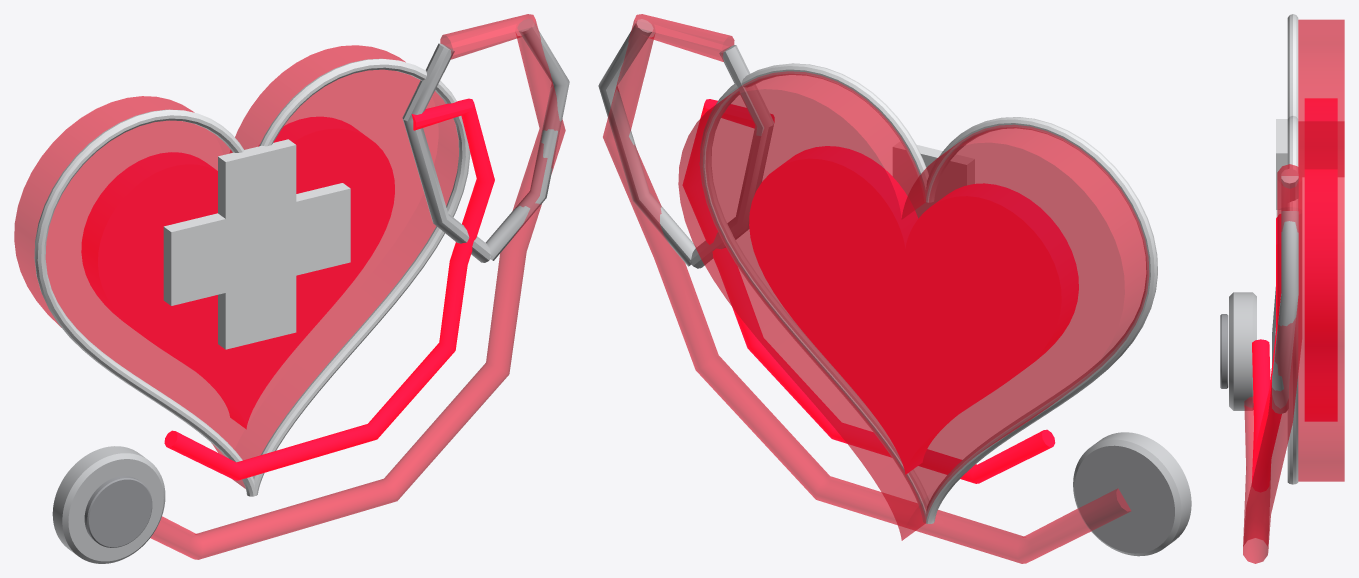
File: 47-healthcare.glb
The picture shows the model from 3 angles, left to right: view 1: azimuth 30°, elevation 25°; view 2: azimuth 150°, elevation 25°; view 3: azimuth 270°, elevation 25°; orthographic projection. The views are drawn at different scales.
Parts seen in each view (by area): view 1: BC ruby optical glass, BC internal ruby light, BC polished iron bevel, BC satin iron, BC brushed iron; view 2: BC ruby optical glass, BC internal ruby light, BC satin iron, BC polished iron bevel; view 3: BC ruby optical glass, BC internal ruby light, BC satin iron, BC polished iron bevel, BC brushed iron.
Part boxes in pixels (x1,y1,x2,y2): BC ruby optical glass: [14, 14, 565, 559]; BC internal ruby light: [81, 98, 494, 480]; BC polished iron bevel: [34, 58, 470, 496]; BC satin iron: [52, 18, 569, 563]; BC brushed iron: [84, 476, 152, 547]; BC ruby optical glass: [603, 14, 1148, 563]; BC internal ruby light: [682, 99, 1078, 483]; BC satin iron: [598, 19, 1191, 556]; BC polished iron bevel: [700, 63, 1157, 523]; BC ruby optical glass: [1243, 19, 1344, 563]; BC internal ruby light: [1252, 98, 1337, 492]; BC satin iron: [1229, 169, 1298, 413]; BC polished iron bevel: [1276, 14, 1298, 484]; BC brushed iron: [1220, 314, 1228, 388].
Bounding box in the file's own units: 1.97 × 1.57 × 0.3975.
